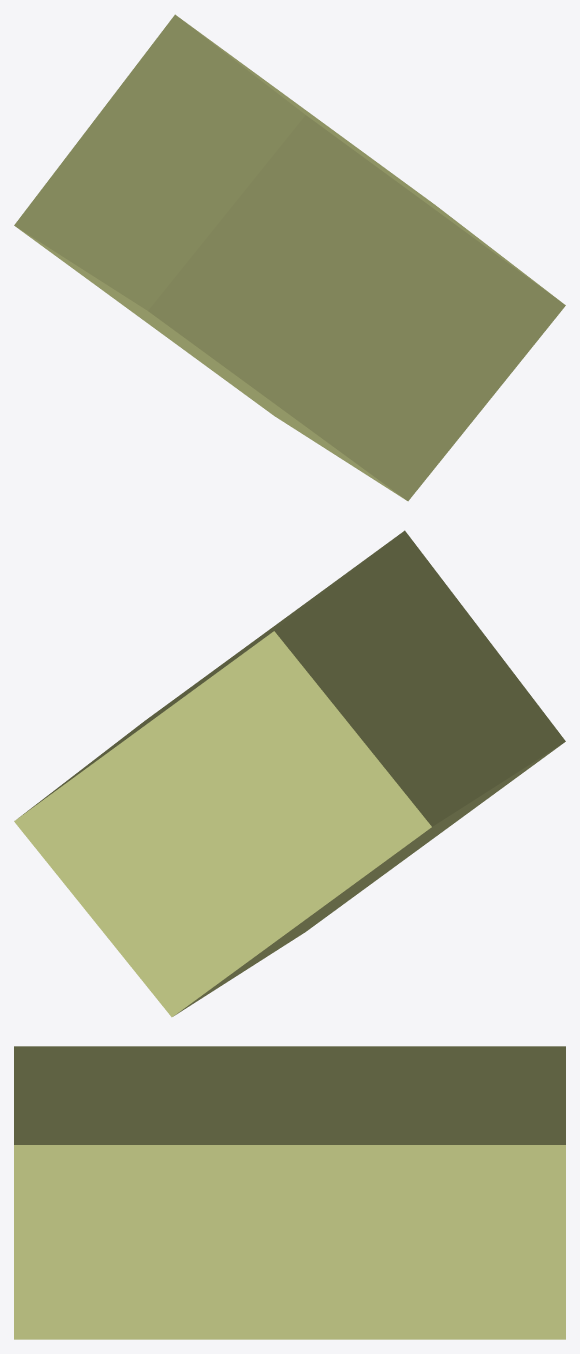
The picture shows the model from 3 angles, top to bottom: view 1: azimuth 30°, elevation 25°; view 2: azimuth 150°, elevation 25°; view 3: azimuth 270°, elevation 25°; orthographic projection. The views are drawn at different scales.
Parts seen in each view (by area): view 1: 0_1_2_0_0_3_2_2_1_1_2_0; view 2: 0_1_2_0_0_3_2_2_1_1_2_0; view 3: 0_1_2_0_0_3_2_2_1_1_2_0.
Part boxes in pixels (<box>): 0_1_2_0_0_3_2_2_1_1_2_0: <box>14,14,565,501</box>; 0_1_2_0_0_3_2_2_1_1_2_0: <box>14,530,565,1017</box>; 0_1_2_0_0_3_2_2_1_1_2_0: <box>14,1046,565,1339</box>.
Size of the model in its own units: 5.82 by 5.53 by 9.
